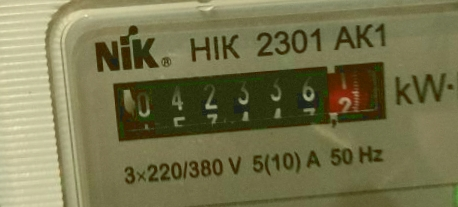0: (133, 89, 152, 118)
1: (335, 67, 349, 90)
2: (201, 79, 219, 110), (335, 93, 353, 112)
3: (265, 72, 283, 103), (233, 76, 250, 105)
4: (167, 81, 186, 111)
6: (299, 71, 318, 102)
screen: (100, 47, 401, 150)
